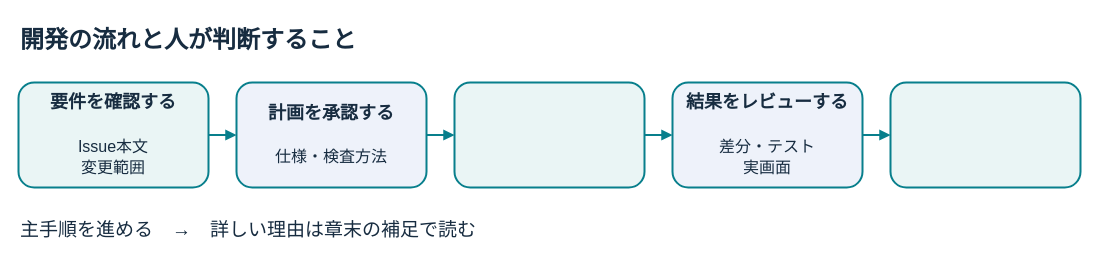
Some shapes in this 1098 by 269 pixel diagram are drawn without their labels. The centre of each missing label's shape, as x and y in pixels:
マージを確認する CI全成功・Merged: point (985, 134)
実装を依頼する 指示・スキルを共有: point (549, 134)
